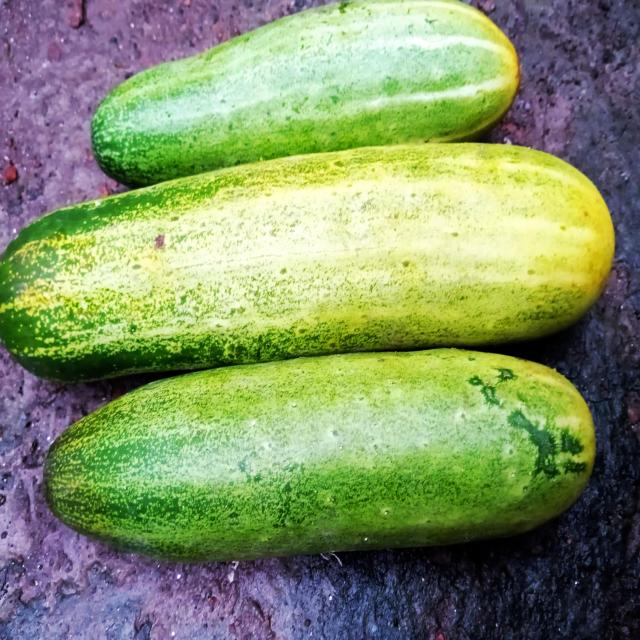Fresh-Cucumber: (1, 144, 618, 385), (46, 349, 596, 563), (91, 0, 520, 187)
